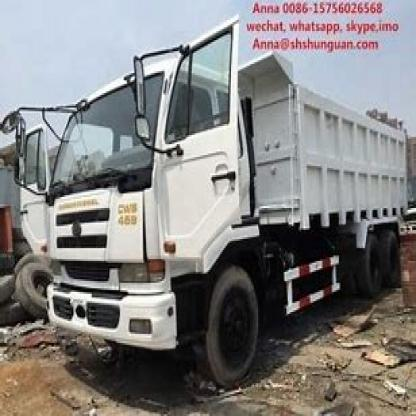dump_truck: (25, 40, 414, 378)
